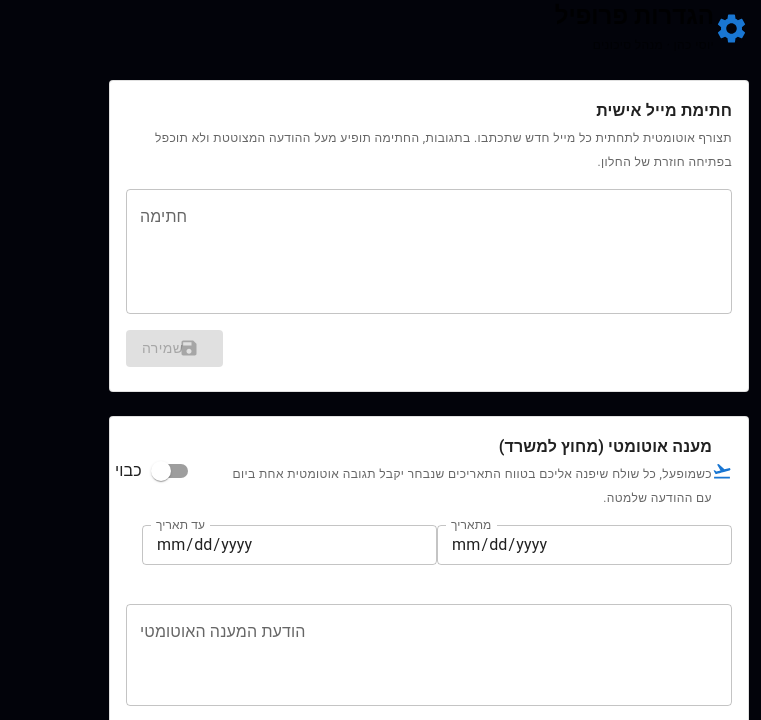
it: ProfileSettings — out-of-office / auto-responder (TODO_SPEC.md "משימה 18") › saves the toggle, date range and message via updateAutoResponder
Step 1. Click the checkbox with test id "auto-responder-toggle" → (151, 470), box [115,460,188,480]
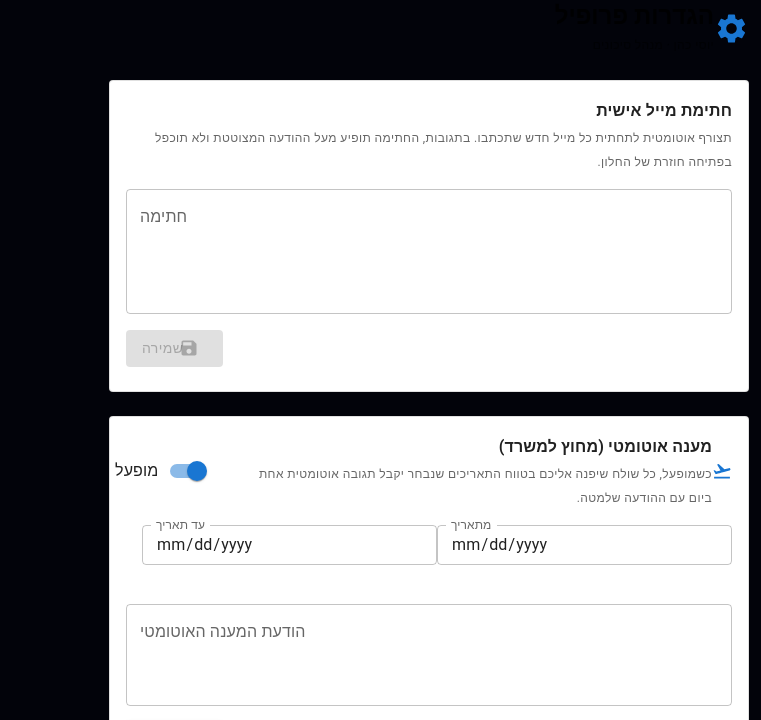
Step 2. Type "2026-02-01" into the date field with test id "auto-responder-start" → (584, 544), box [437,524,732,564]
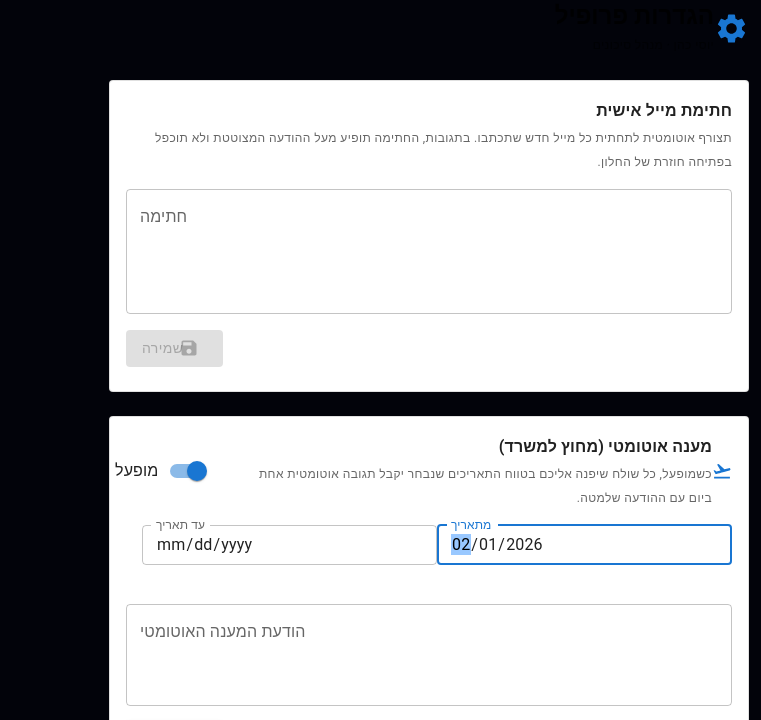
Step 3. Type "2026-02-10" into the date field with test id "auto-responder-end" → (290, 544), box [142,524,437,564]
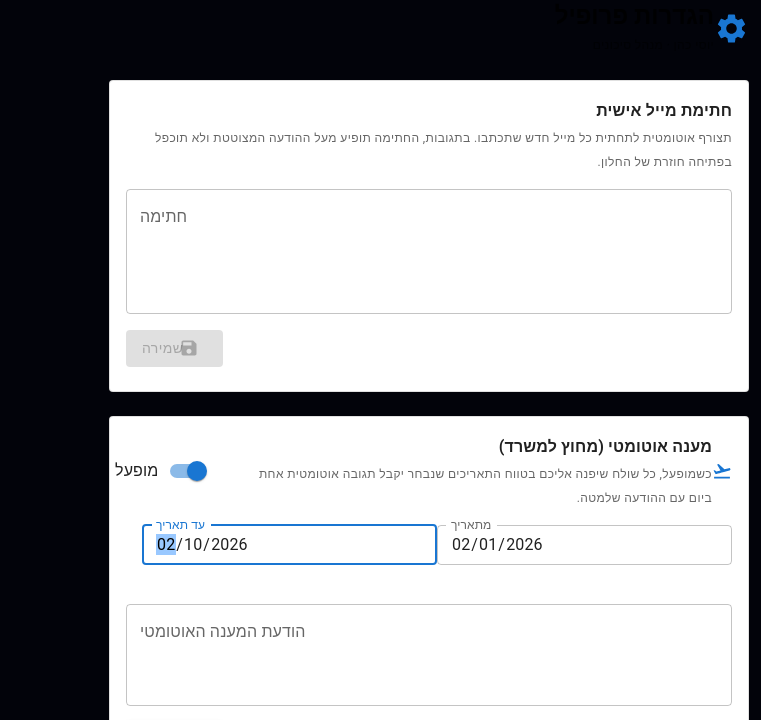
Step 4. Type "בחופשה" into the text box with test id "auto-responder-body" → (429, 655), box [140,621,718,690]
(page scrolled)
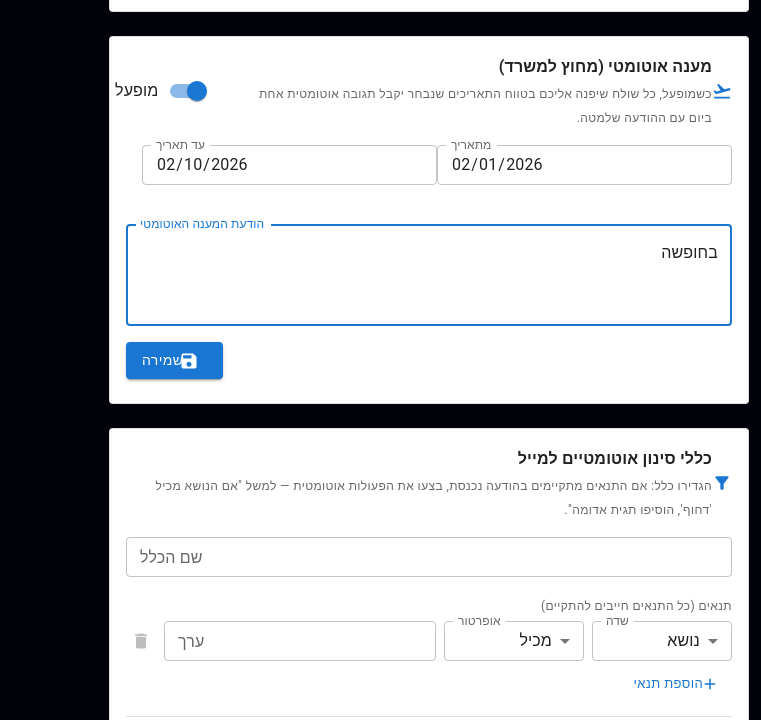
Step 5. Click the button with test id "save-auto-responder-button" → (175, 361), box [126,342,223,379]
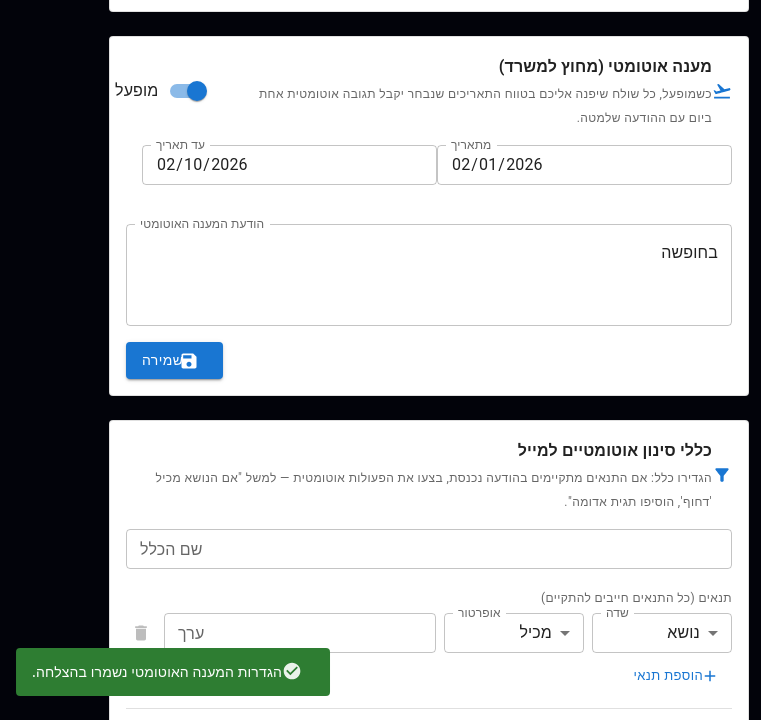
Check: the text "הגדרות המענה האוטומטי נשמרו בהצלחה." is shown, box [32,664,282,680]
